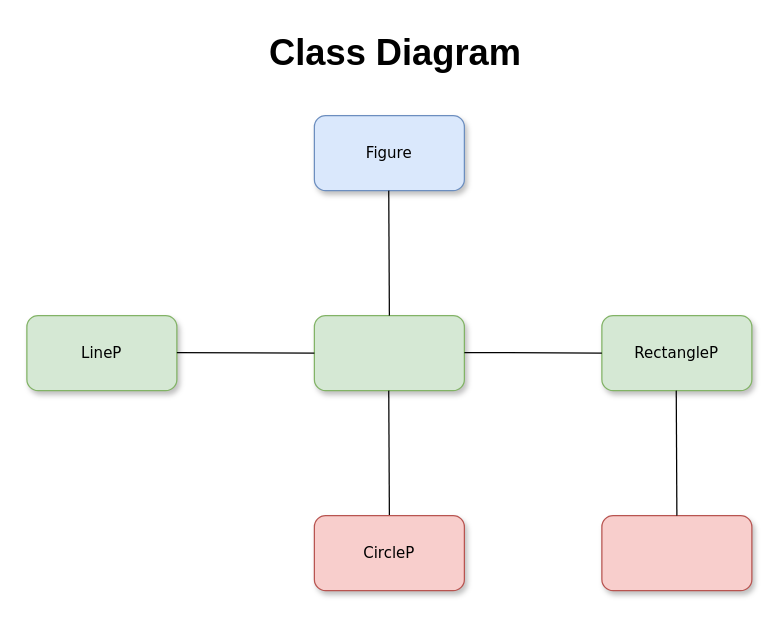
Image size: 781x621. Some labels were removed from this diagram. Here are the shapes that lost their labels. From the top down, the centre of each, then its label:
the point at 390,354: EllipseP
the point at 677,554: Square
